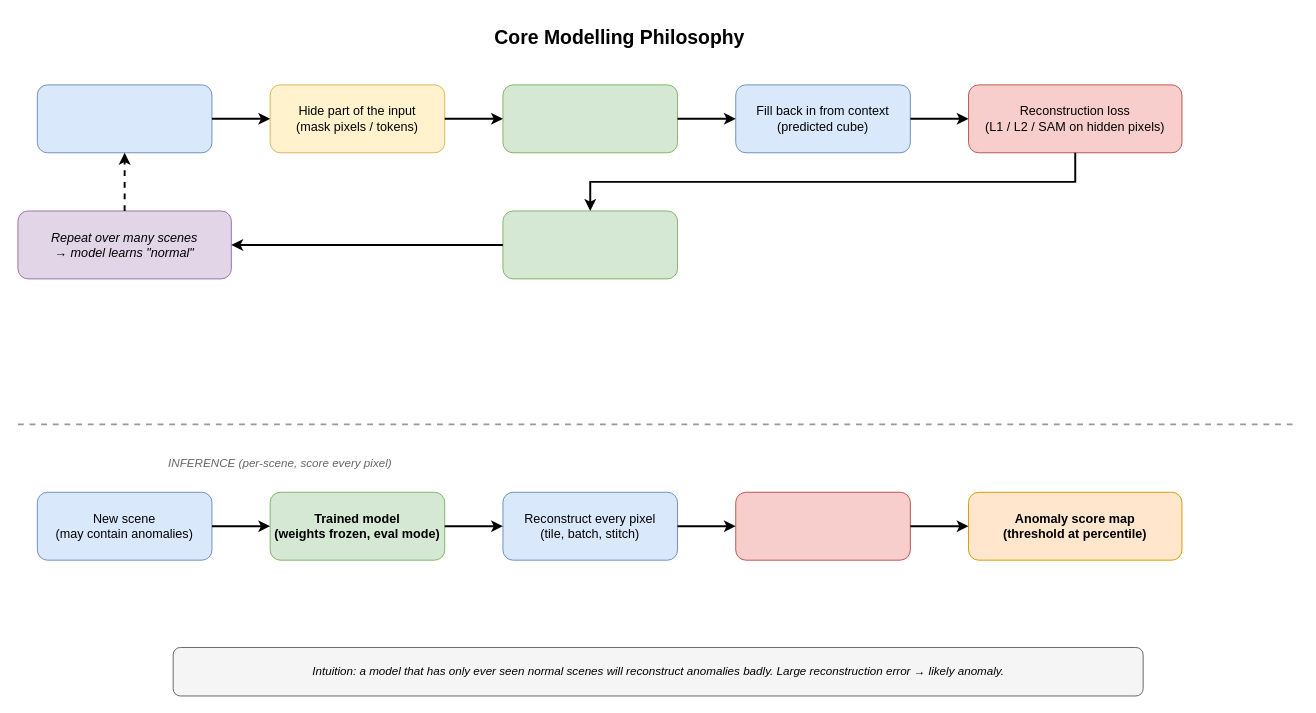
This 1316x713 diagram has some shape labels left out. The shapes that lost their labels are listed below. From the top down, each one's box as (x1, y1, x2, y2) in pixels, then its label:
(36, 84, 212, 153): Normal scene (hyperspectral / thermal cube)
(502, 84, 678, 153): Model (reconstructor)
(502, 210, 678, 279): Update model weights (backprop, optimizer step)
(735, 491, 910, 560): Per-pixel residual |input − reconstruction|
